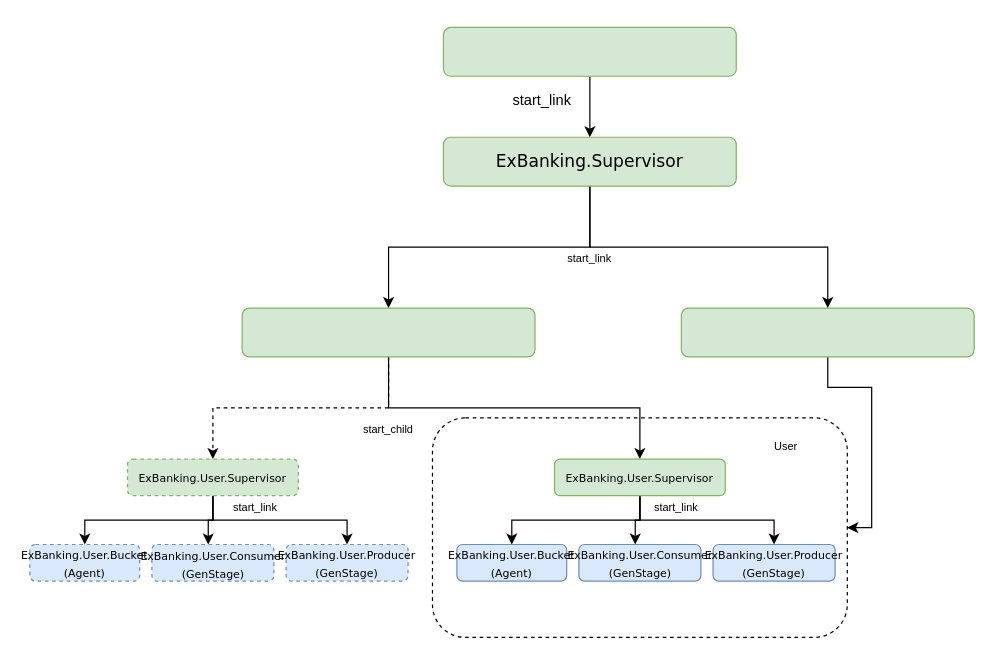
Image size: 996x659. Some labels were removed from this diagram. The centre of each missing label's shape, as x and y in pixels:
ExBanking.Application: (x=589, y=51)
ExBanking.User.DynamicSupervisor: (x=388, y=332)
Registry.User: (x=827, y=332)
